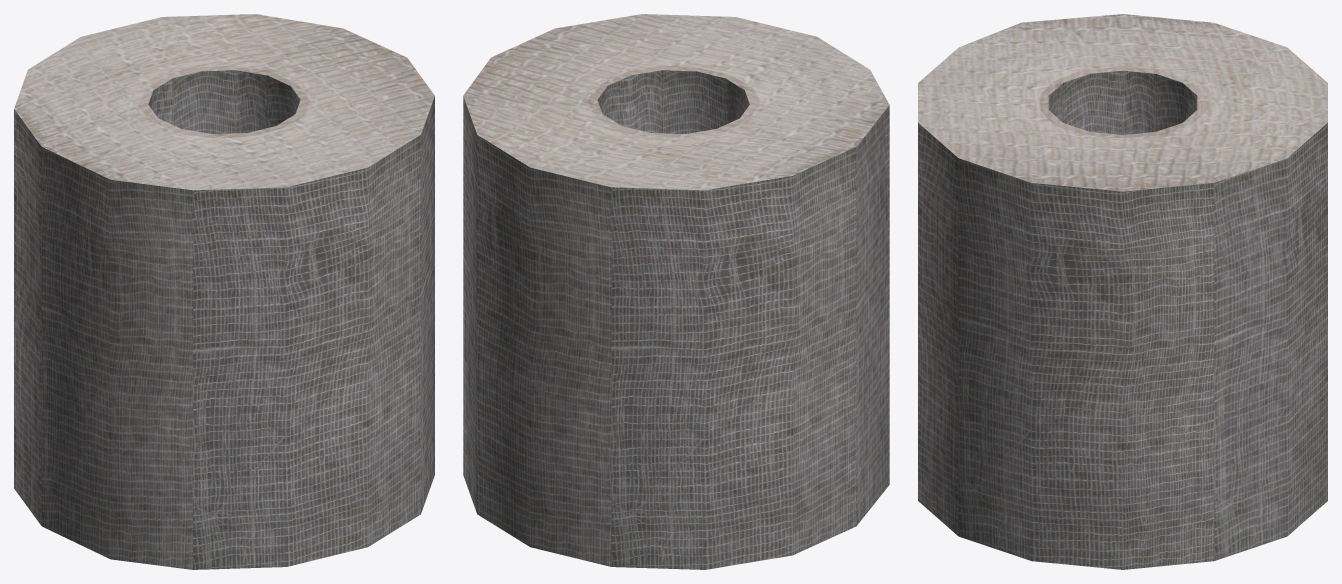
Rendered from health_bandages.dae.
The picture shows the model from 3 angles, left to right: view 1: azimuth 30°, elevation 25°; view 2: azimuth 150°, elevation 25°; view 3: azimuth 270°, elevation 25°; orthographic projection.
Parts seen in each view (by area): view 1: toiletpaper; view 2: toiletpaper; view 3: toiletpaper.
Part boxes in pixels (x1,y1,x2,y2): toiletpaper: (14,14,434,569); toiletpaper: (463,14,889,569); toiletpaper: (918,14,1327,569).
Size of what is drawn, in the model's own units: 0.1773 by 0.176 by 0.1729.
